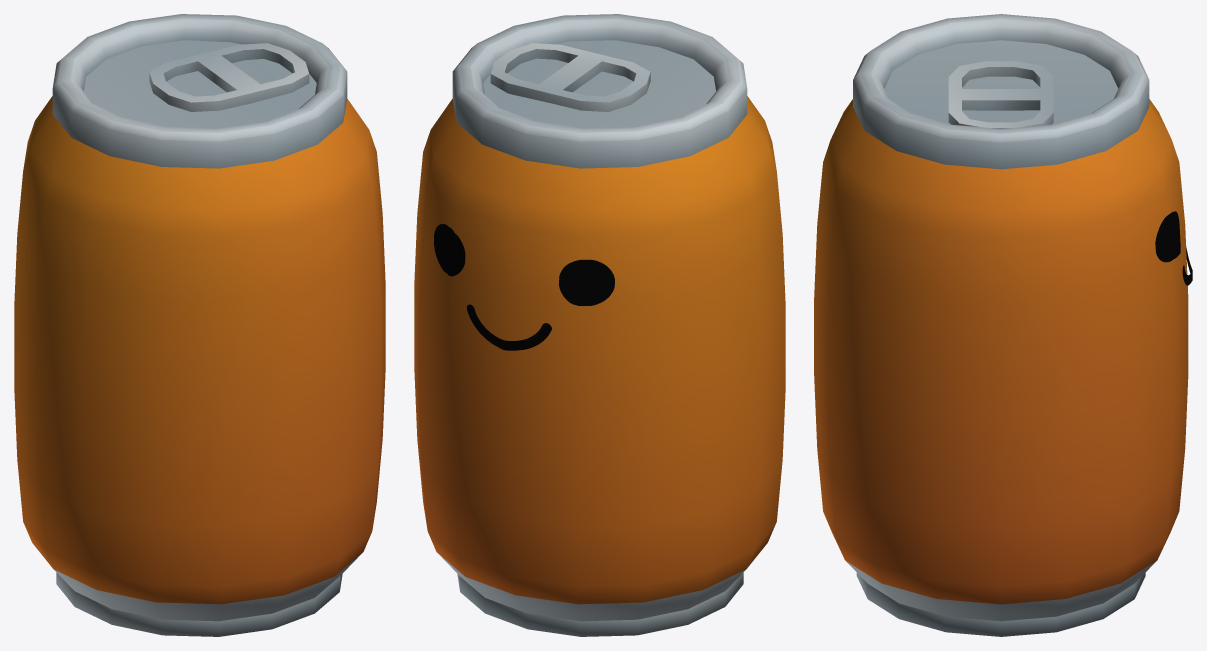
Rendered from can_small_orange_smile.fbx.
3 views of the same model, side by side, from view 1: azimuth 30°, elevation 25°; view 2: azimuth 150°, elevation 25°; view 3: azimuth 270°, elevation 25° (orthographic).
Parts seen in each view (by area): view 1: can_s_orange; view 2: can_s_orange, smile_can; view 3: can_s_orange, smile_can.
Part boxes in pixels (left/top/right/bottom): can_s_orange: left=14, top=14, right=385, bottom=636; can_s_orange: left=414, top=14, right=785, bottom=636; smile_can: left=433, top=224, right=615, bottom=350; can_s_orange: left=814, top=14, right=1188, bottom=636; smile_can: left=1155, top=211, right=1192, bottom=285.
Size of the model in its own units: 64.77 by 96.96 by 65.55.
